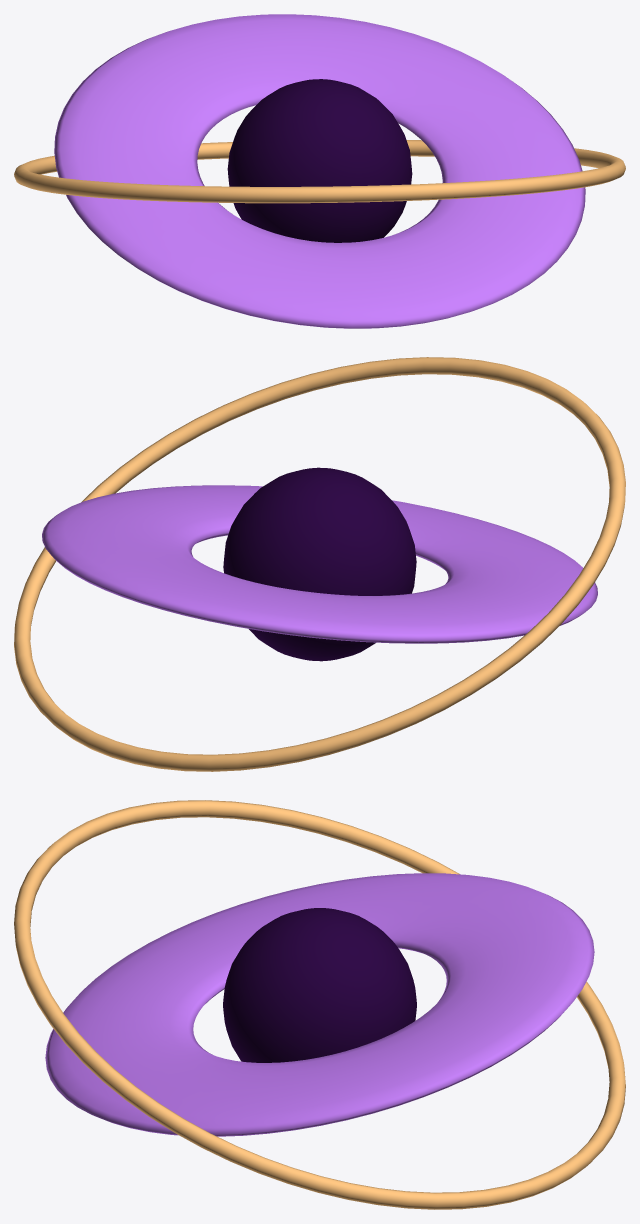
Rendered from BlackHole.fbx.
3 views of the same model, one above another, from view 1: azimuth 30°, elevation 25°; view 2: azimuth 150°, elevation 25°; view 3: azimuth 270°, elevation 25° (orthographic). The views are drawn at different scales.
Parts seen in each view (by area): view 1: BlackHole_Disk, BlackHole_Core, BlackHole_Ring; view 2: BlackHole_Disk, BlackHole_Ring, BlackHole_Core; view 3: BlackHole_Disk, BlackHole_Ring, BlackHole_Core.
Boxes of the visible parts, box(x1,y1,x2,y2) form: BlackHole_Disk: box(54, 14, 585, 328); BlackHole_Core: box(227, 79, 412, 242); BlackHole_Ring: box(14, 140, 625, 203); BlackHole_Disk: box(42, 485, 597, 643); BlackHole_Ring: box(14, 357, 625, 771); BlackHole_Core: box(223, 467, 416, 661); BlackHole_Disk: box(45, 873, 594, 1136); BlackHole_Ring: box(14, 800, 625, 1209); BlackHole_Core: box(223, 908, 416, 1062).
Bounding box in the file's own units: 247 × 91.61 × 238.
